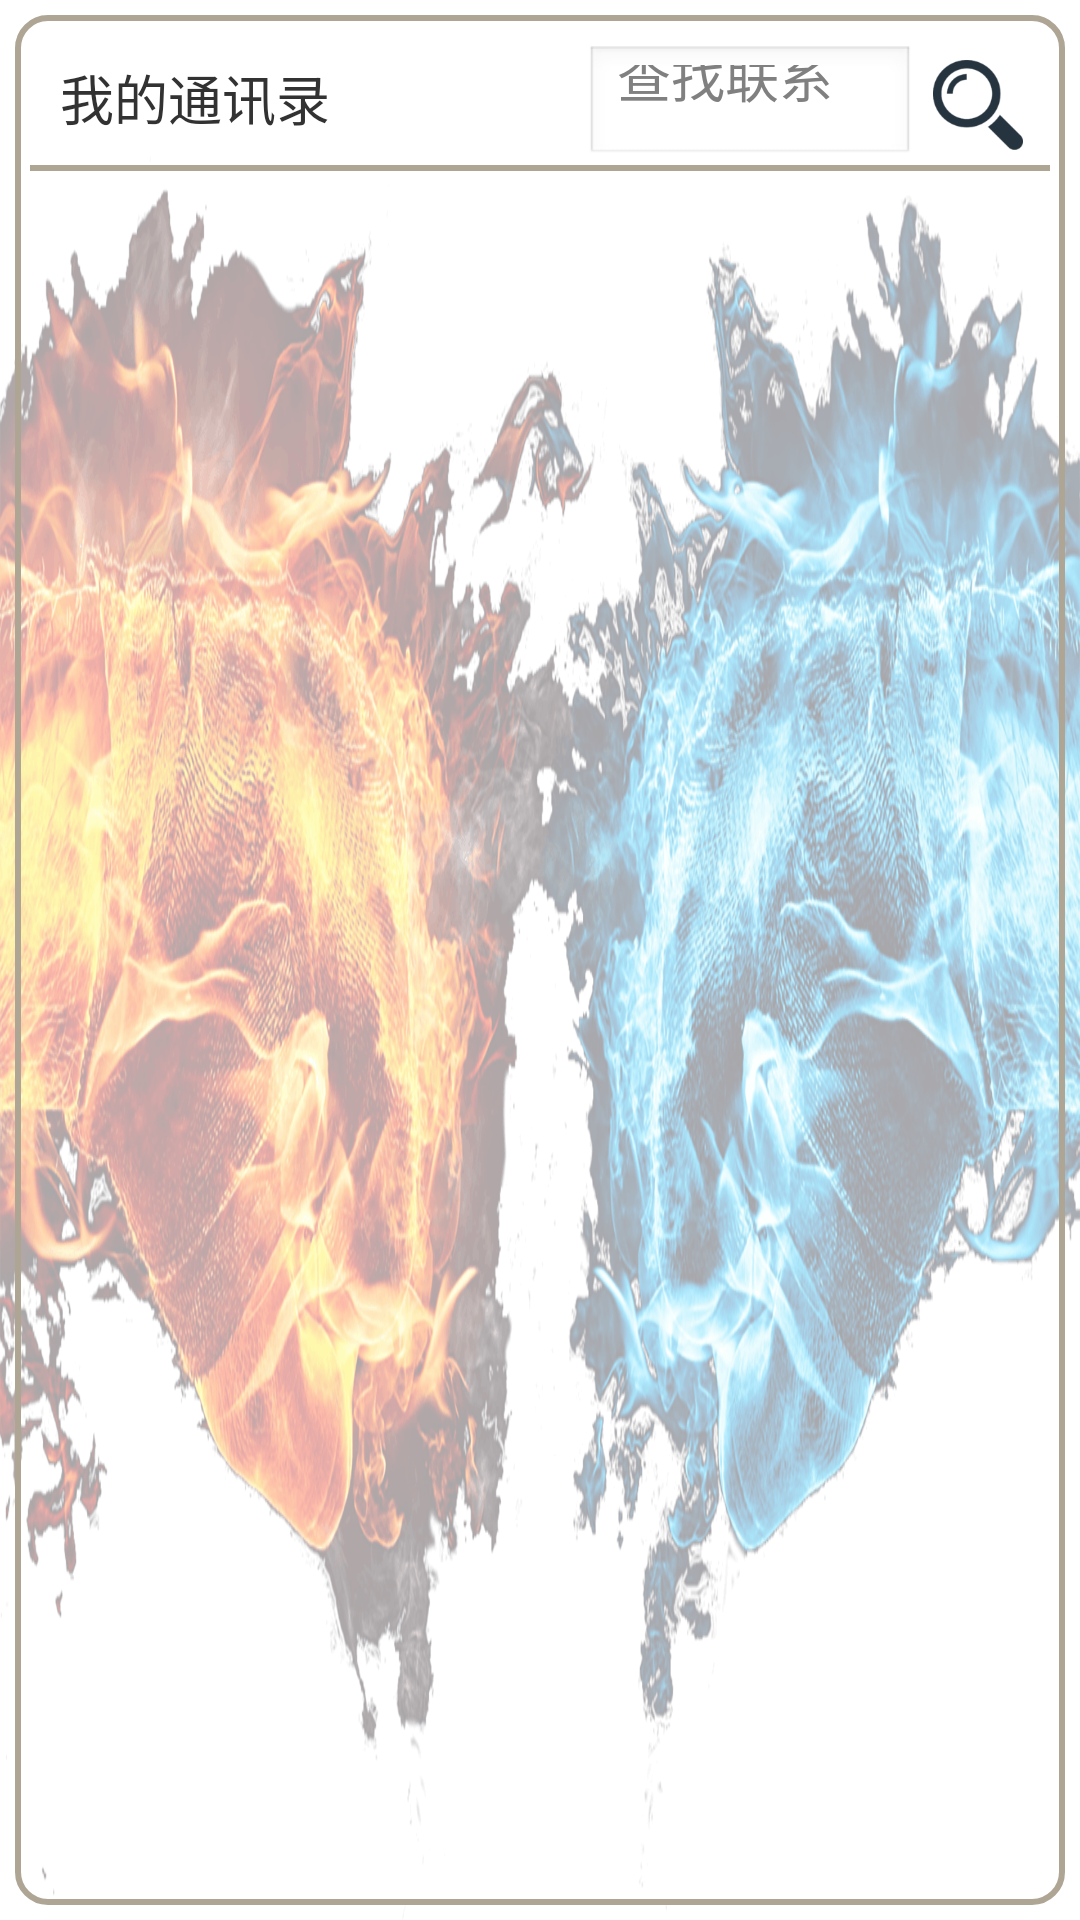

Named icons in this screenshot (1080*1920) and their centers, point (x, y):
search: point (978, 105)
